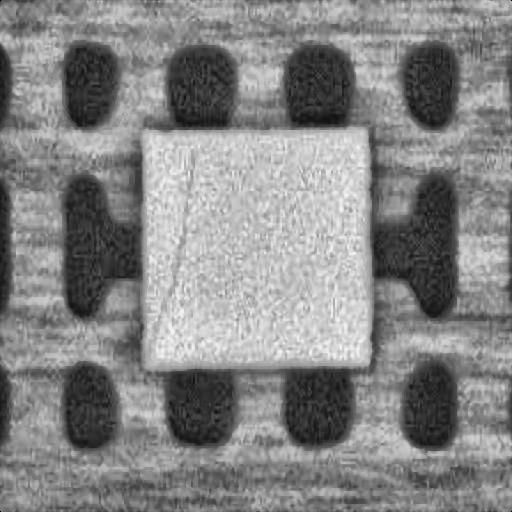DIE_CRACK: (145, 146, 193, 347)
